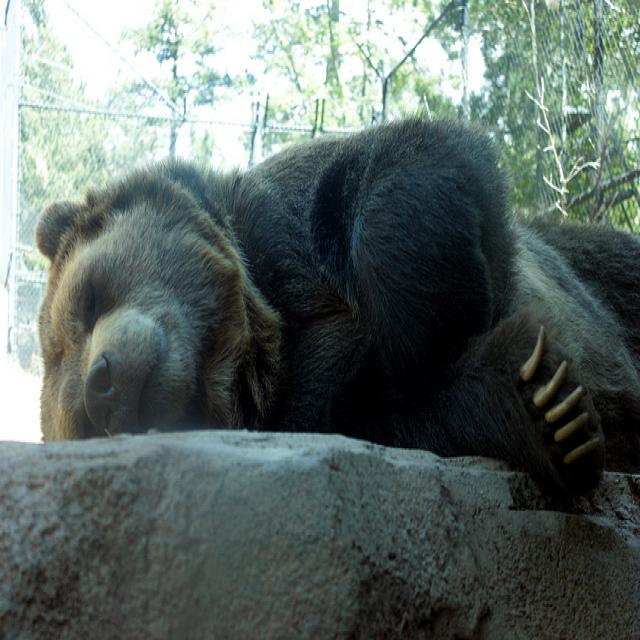Bear: (12, 108, 640, 485)
